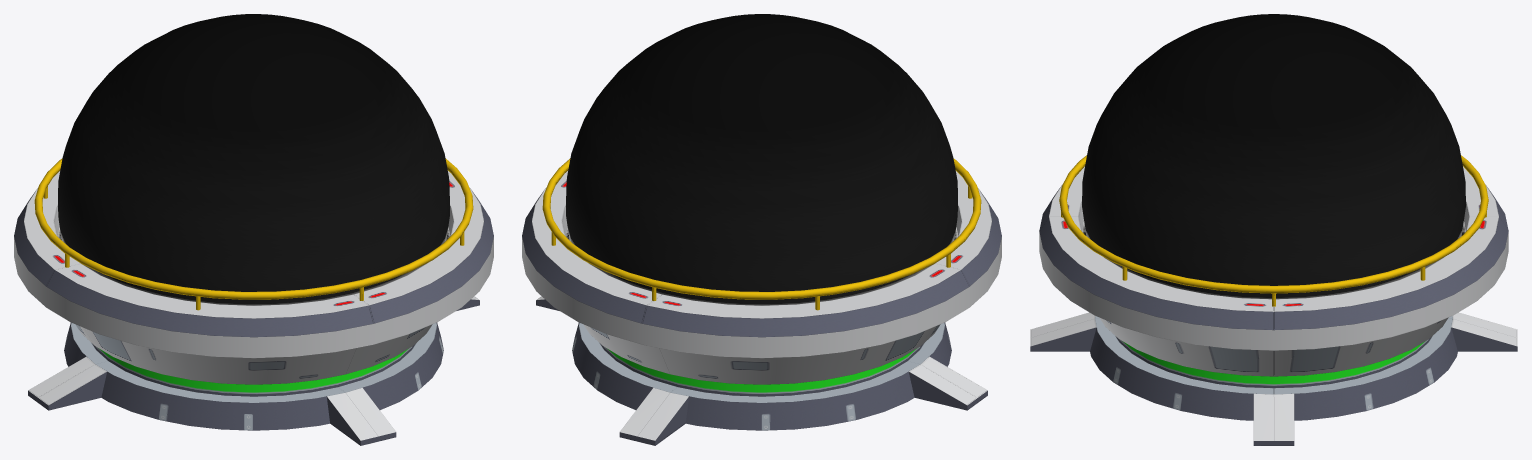
File: Holo_Table_02.FBX
3 views of the same model, side by side, from view 1: azimuth 30°, elevation 25°; view 2: azimuth 150°, elevation 25°; view 3: azimuth 270°, elevation 25° (orthographic). The views are drawn at different scales.
Parts seen in each view (by area): view 1: Holo_Globe_01, Holo_Table_02; view 2: Holo_Globe_01, Holo_Table_02; view 3: Holo_Globe_01, Holo_Table_02.
Part boxes in pixels (left/top/right/bottom): Holo_Globe_01: left=58, top=14, right=449, bottom=305; Holo_Table_02: left=14, top=158, right=493, bottom=445; Holo_Globe_01: left=566, top=14, right=957, bottom=305; Holo_Table_02: left=522, top=158, right=1001, bottom=445; Holo_Globe_01: left=1082, top=14, right=1465, bottom=299; Holo_Table_02: left=1030, top=155, right=1517, bottom=445.
Size of the model in its own units: 3.49 by 2.45 by 3.49.
